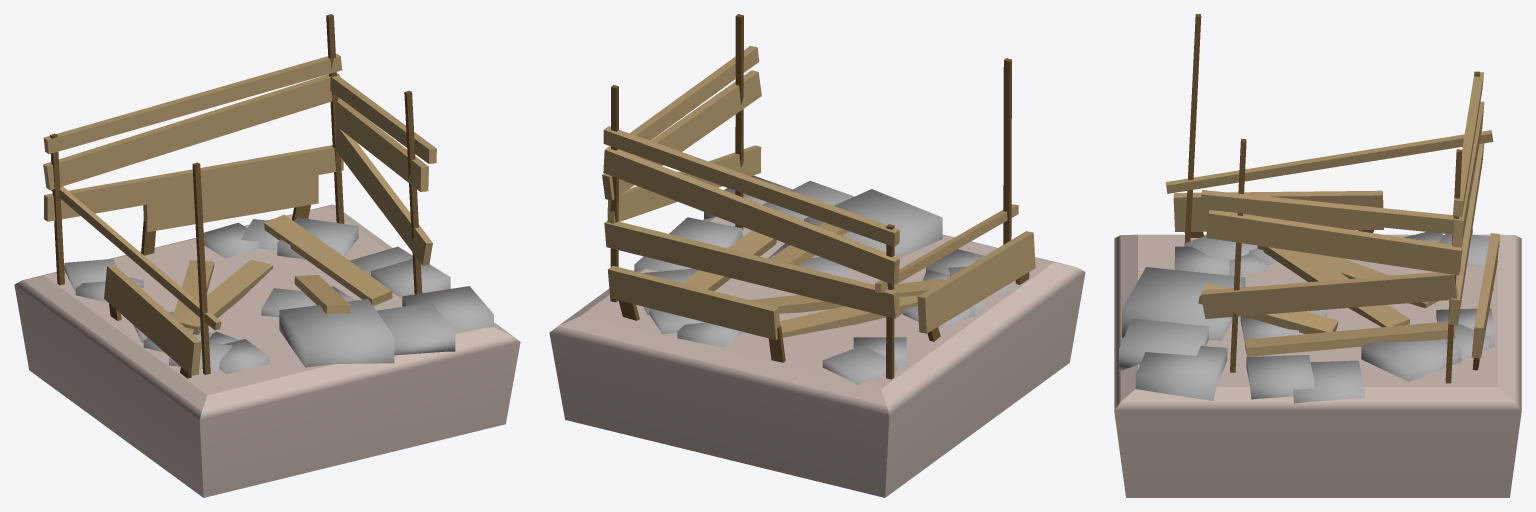
File: ConstructionSite2.fbx
The picture shows the model from 3 angles, left to right: view 1: azimuth 30°, elevation 25°; view 2: azimuth 150°, elevation 25°; view 3: azimuth 270°, elevation 25°; orthographic projection. The views are drawn at different scales.
Visible parts, largest first — view 1: ConstructionSite2; view 2: ConstructionSite2; view 3: ConstructionSite2.
Part boxes in pixels (left/top/right/bottom): ConstructionSite2: left=14, top=14, right=520, bottom=497; ConstructionSite2: left=549, top=14, right=1085, bottom=497; ConstructionSite2: left=1114, top=14, right=1521, bottom=497.
Bounding box in the file's own units: 4 × 3.62 × 4.
